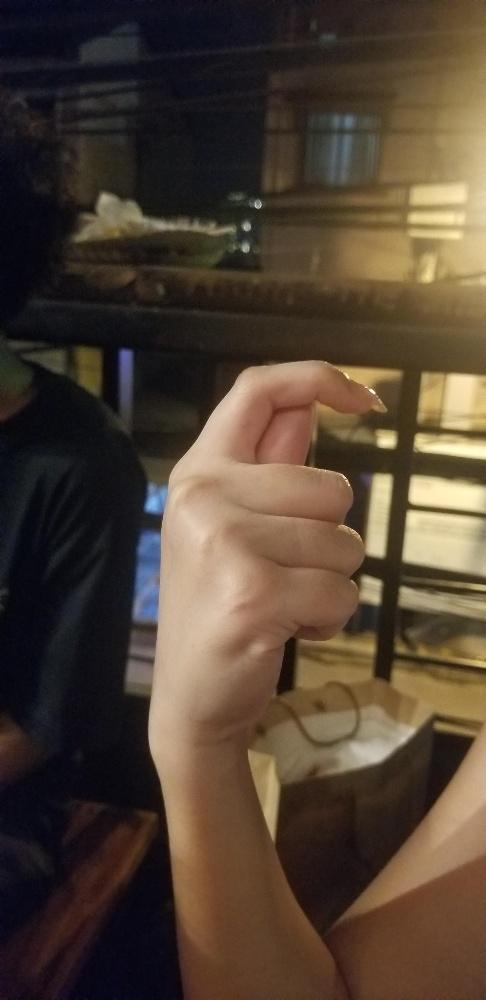t: (149, 353, 388, 756)
